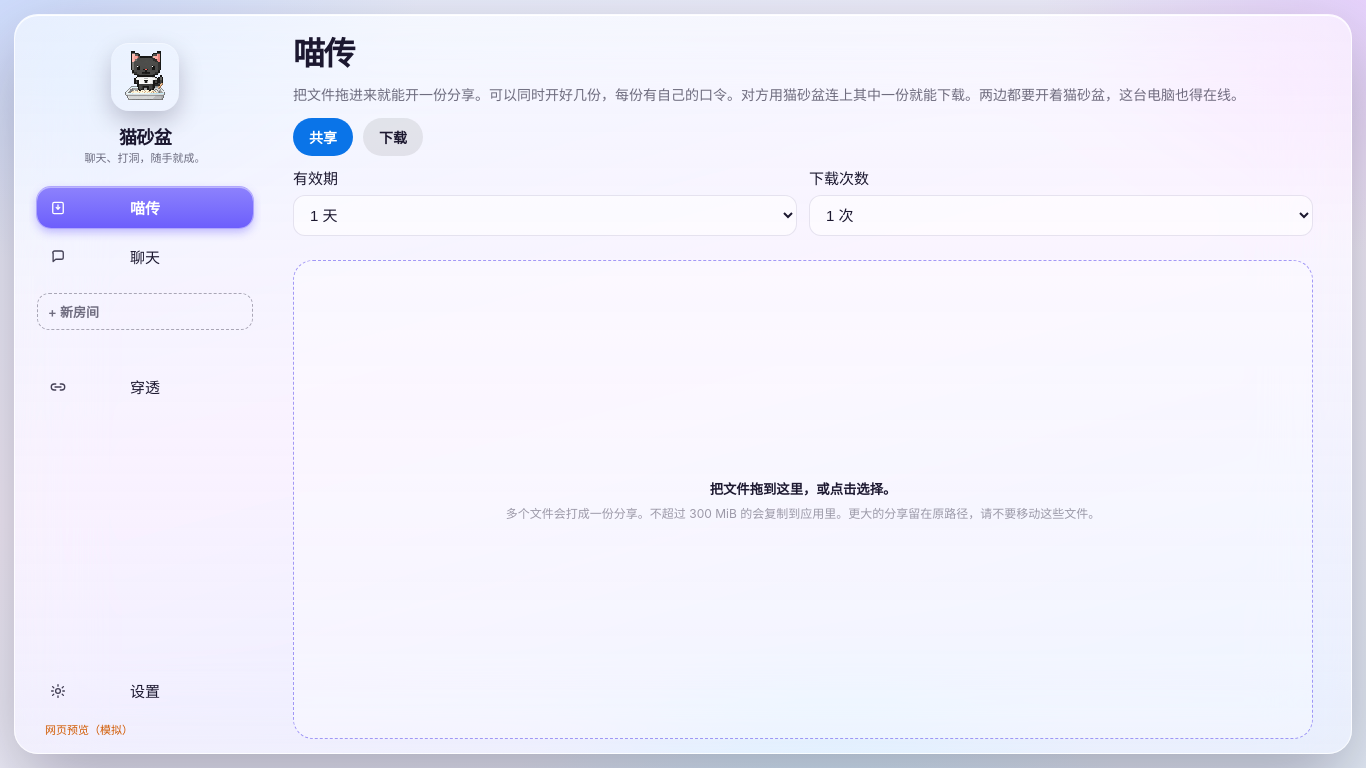
Test: phase 1 chat shell › uses 聊天 and 设置 in zh-CN
Step 1. Click the button with class "nav-btn" showing "聊天" → (145, 256), box x1=37 y1=236 x2=253 y2=277
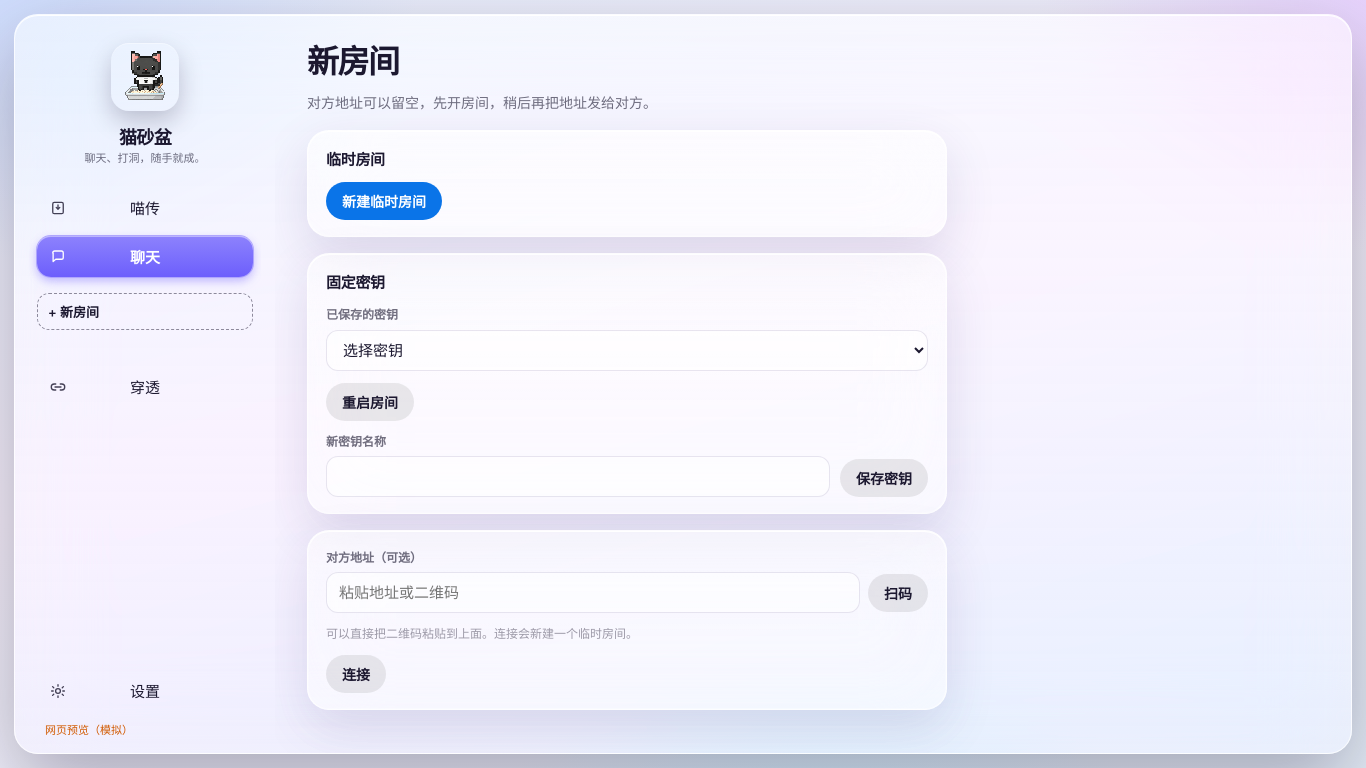
Check: the button with class "nav-btn" reads "设置", box x1=37 y1=670 x2=253 y2=711
Step 2. Click the button "新建临时房间" → (384, 201), box x1=326 y1=182 x2=442 y2=220
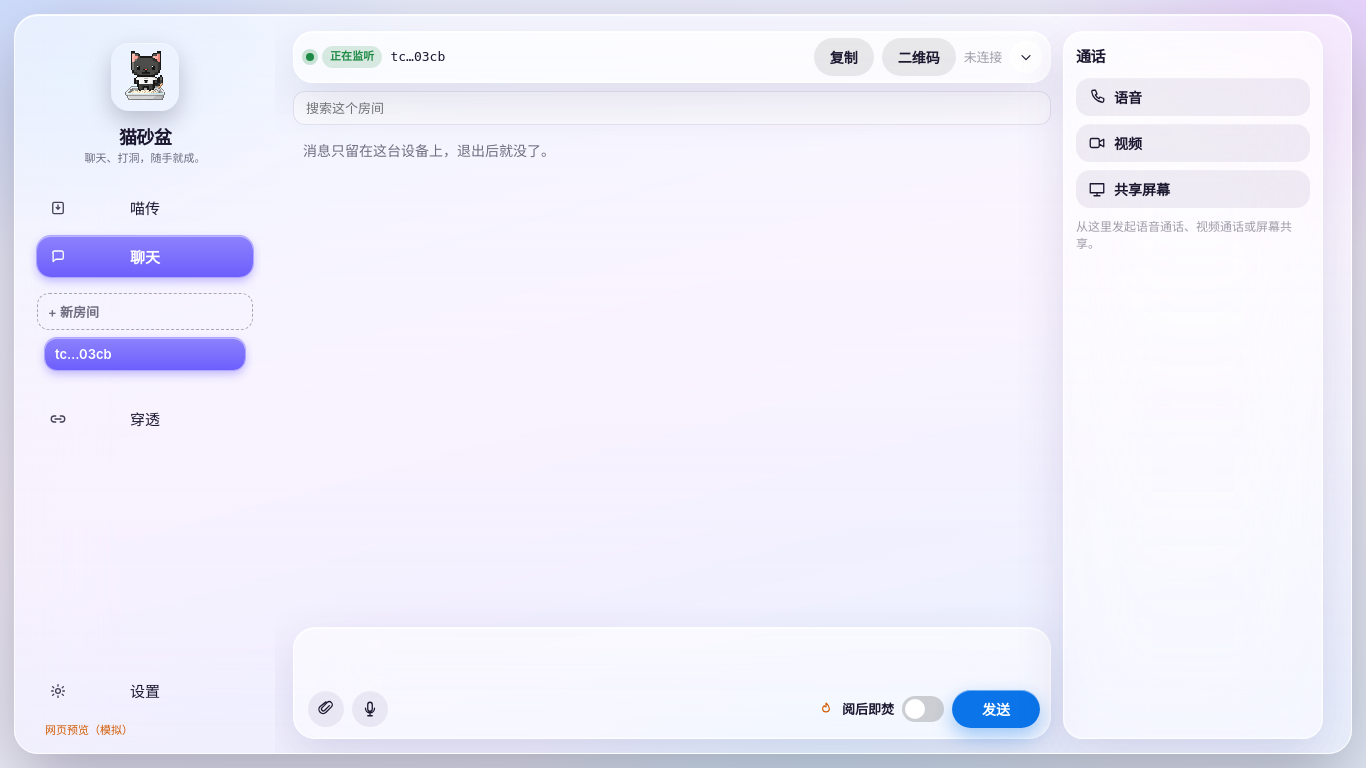
Check: the button "发送" is shown, box x1=952 y1=690 x2=1040 y2=728
